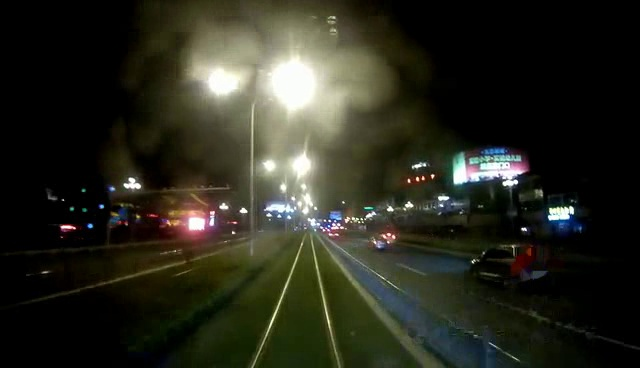car: (463, 243, 541, 288), (368, 234, 401, 253)
